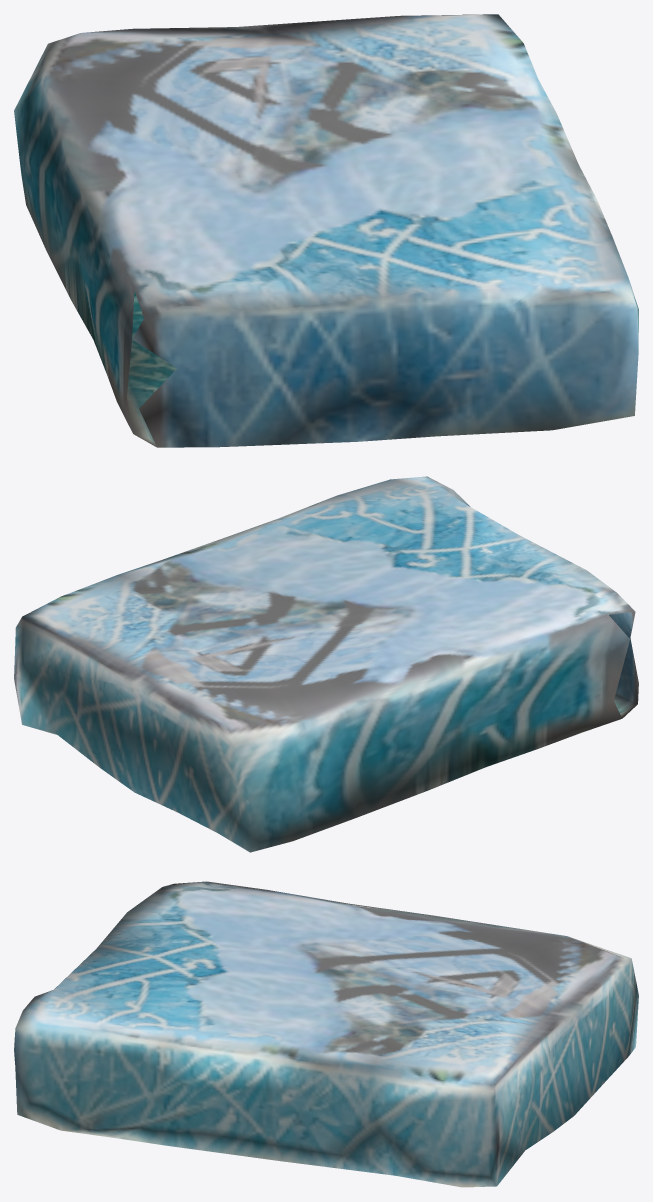
The model's file is IceRegion_Floor.fbx.
The picture shows the model from 3 angles, top to bottom: view 1: azimuth 30°, elevation 25°; view 2: azimuth 150°, elevation 25°; view 3: azimuth 270°, elevation 25°; orthographic projection. The views are drawn at different scales.
Parts seen in each view (by area): view 1: IceRegion_Floor_Mesh; view 2: IceRegion_Floor_Mesh; view 3: IceRegion_Floor_Mesh.
Part boxes in pixels (box(x1,y1,x2,y2)): IceRegion_Floor_Mesh: box(14, 14, 638, 447); IceRegion_Floor_Mesh: box(14, 476, 638, 852); IceRegion_Floor_Mesh: box(14, 881, 638, 1187).
Size of the model in its own units: 6 by 1.48 by 7.42.
Materials: 1 (1 with a texture image).
